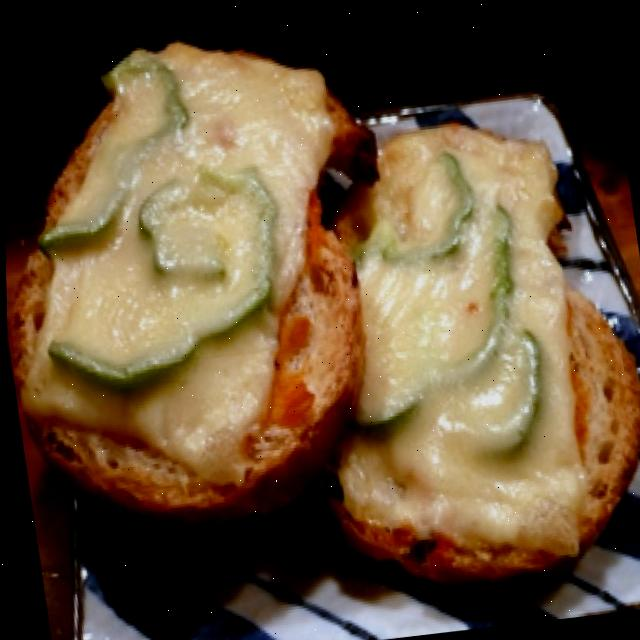面包点心: (0, 0, 640, 634)
